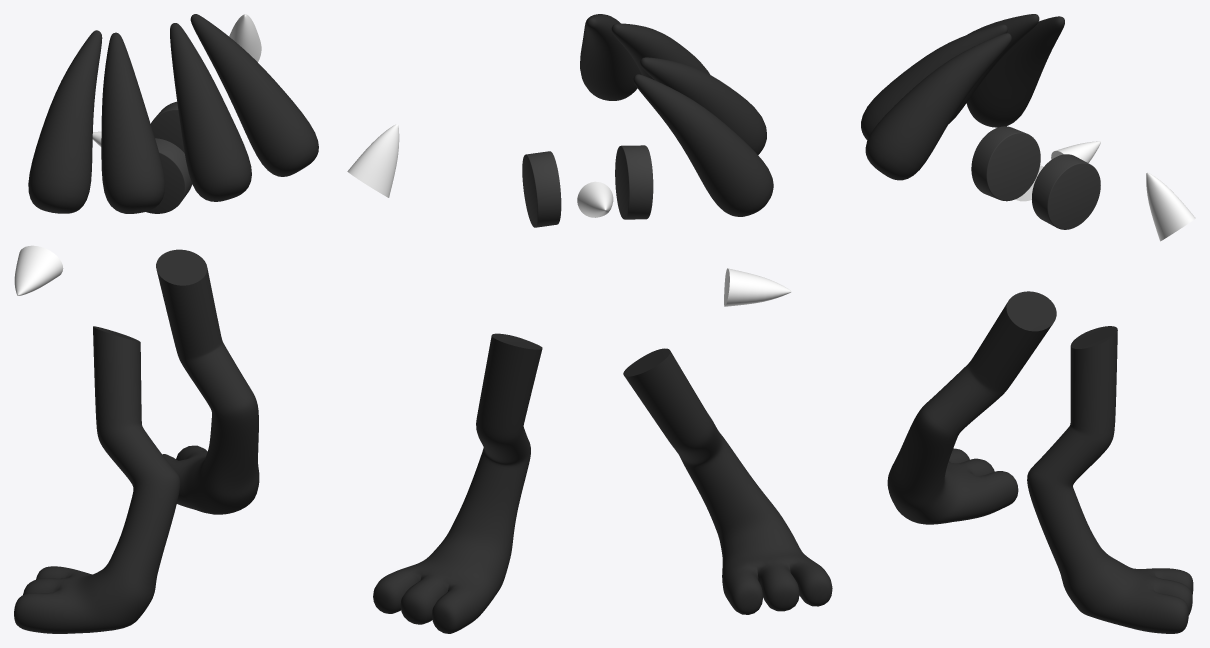
File: lucarioears.glb
The picture shows the model from 3 angles, left to right: view 1: azimuth 30°, elevation 25°; view 2: azimuth 150°, elevation 25°; view 3: azimuth 270°, elevation 25°; orthographic projection. The views are drawn at different scales.
Parts seen in each view (by area): view 1: Object_8.001, Object_7.001, Object_10; view 2: Object_7.001, Object_8.001, Object_10; view 3: Object_7.001, Object_8.001, Object_10.
Boxes of the visible parts, x1,y1,x2,y2 form: Object_8.001: (28,14,318,213); Object_7.001: (14,249,259,633); Object_10: (14,14,261,295); Object_7.001: (373,333,832,633); Object_8.001: (522,14,773,227); Object_10: (347,124,791,306); Object_7.001: (887,291,1193,633); Object_8.001: (861,14,1100,229); Object_10: (1015,141,1195,241).
Bounding box in the file's own units: 0.1381 × 0.2032 × 0.1128.
3 materials, 2 textured.
